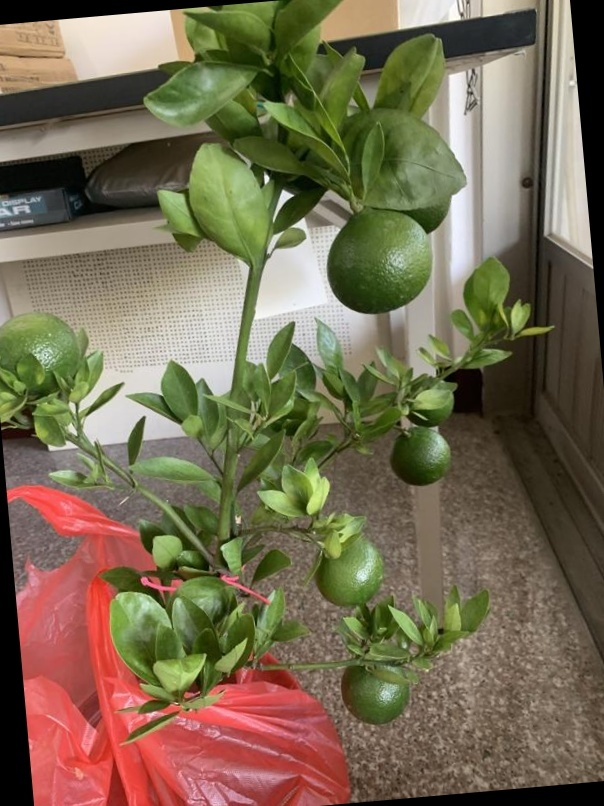Tangerine: (328, 200, 436, 314), (0, 311, 88, 406), (310, 529, 385, 606), (340, 663, 412, 725), (385, 430, 454, 485)
